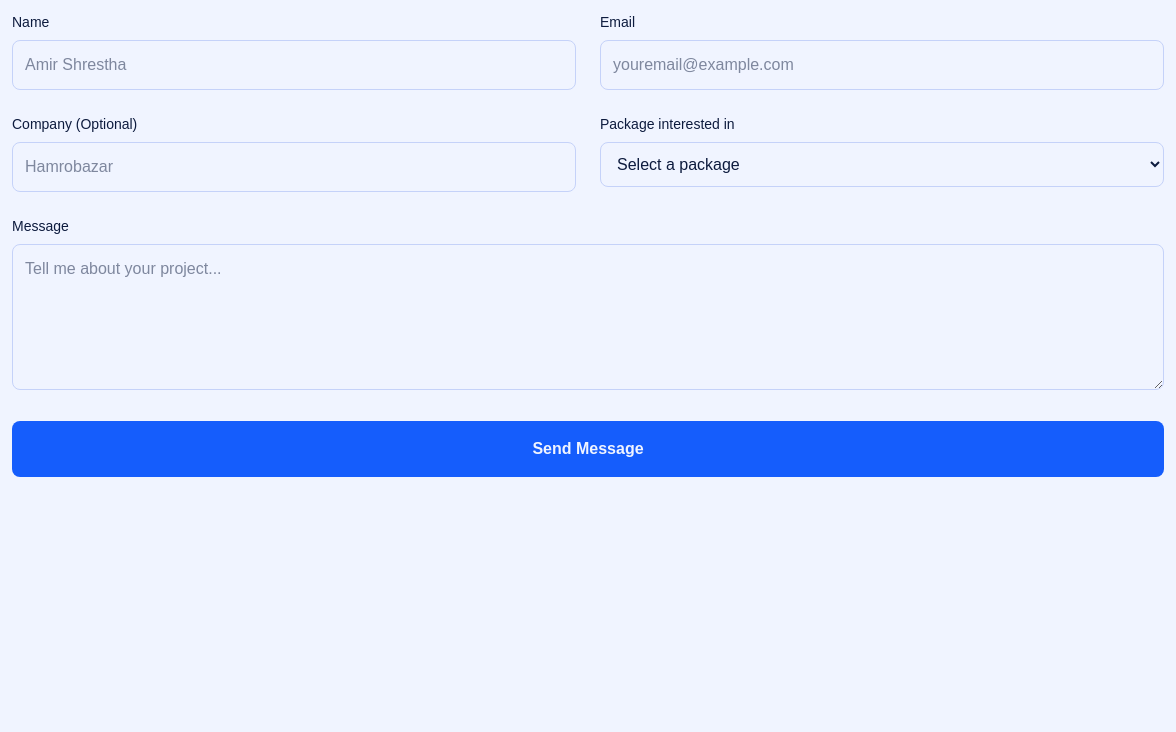
Test case: ContactForm Component › shows validation errors when submitting empty form
Click the button "Send Message": (588, 449) x1=12 y1=421 x2=1164 y2=477
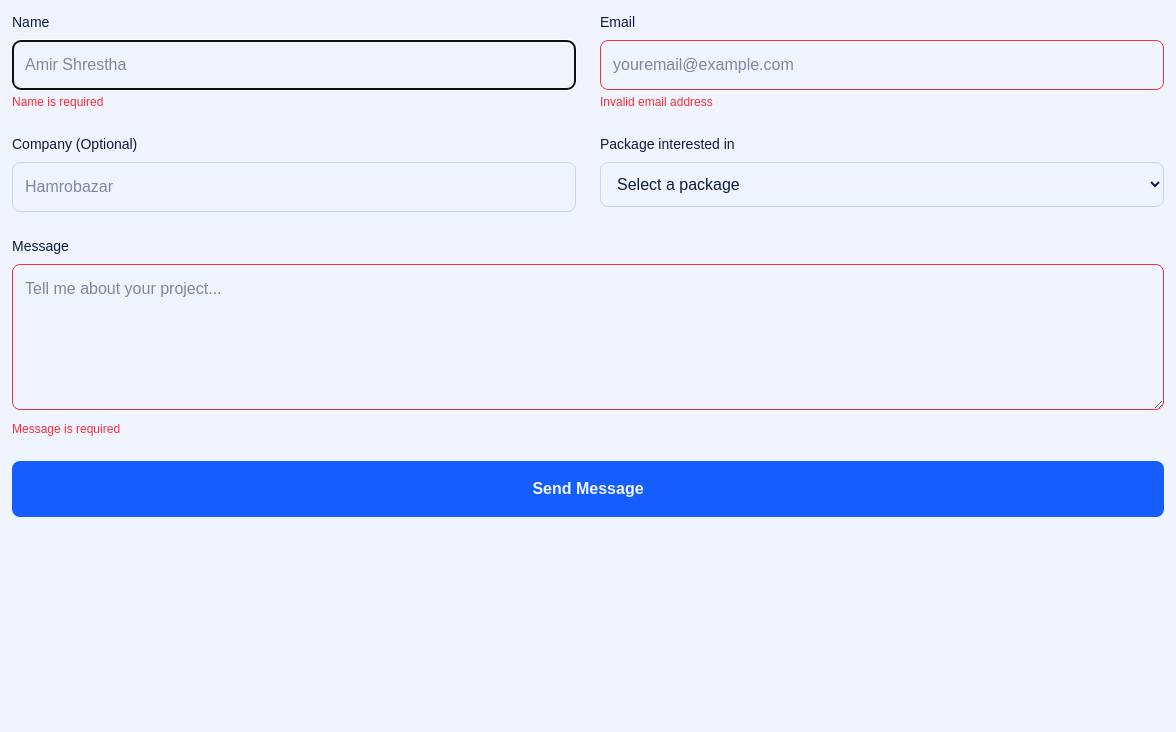
Now the text "Name is required" is shown, box x1=12 y1=95 x2=103 y2=109
Now the text "Invalid email address" is shown, box x1=600 y1=95 x2=713 y2=109
Now the text "Message is required" is shown, box x1=12 y1=422 x2=120 y2=436
